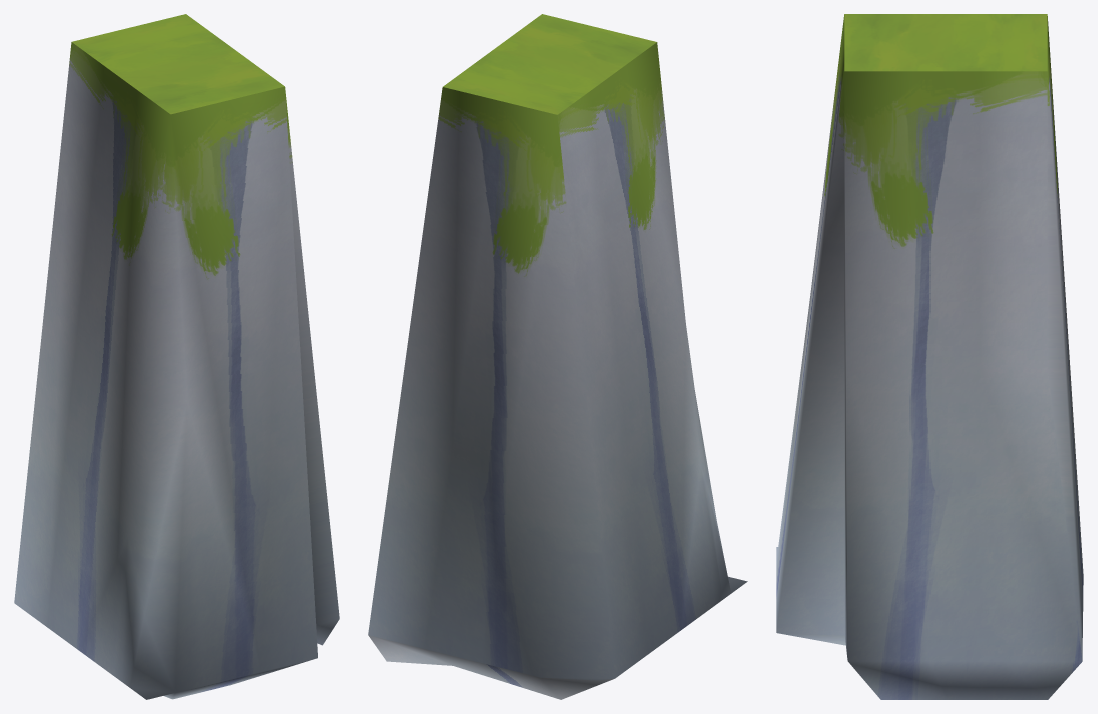
The model's file is rockeroo_small.glb.
The picture shows the model from 3 angles, left to right: view 1: azimuth 30°, elevation 25°; view 2: azimuth 150°, elevation 25°; view 3: azimuth 270°, elevation 25°; orthographic projection. The views are drawn at different scales.
Visible parts, largest first — view 1: rockeroo_small; view 2: rockeroo_small; view 3: rockeroo_small.
Part boxes in pixels (x1,y1,x2,y2): rockeroo_small: (14,14,339,699); rockeroo_small: (368,14,747,699); rockeroo_small: (776,14,1083,699).
Size of the model in its own units: 8.43 by 21.01 by 9.54.
2 materials, 2 textured.
